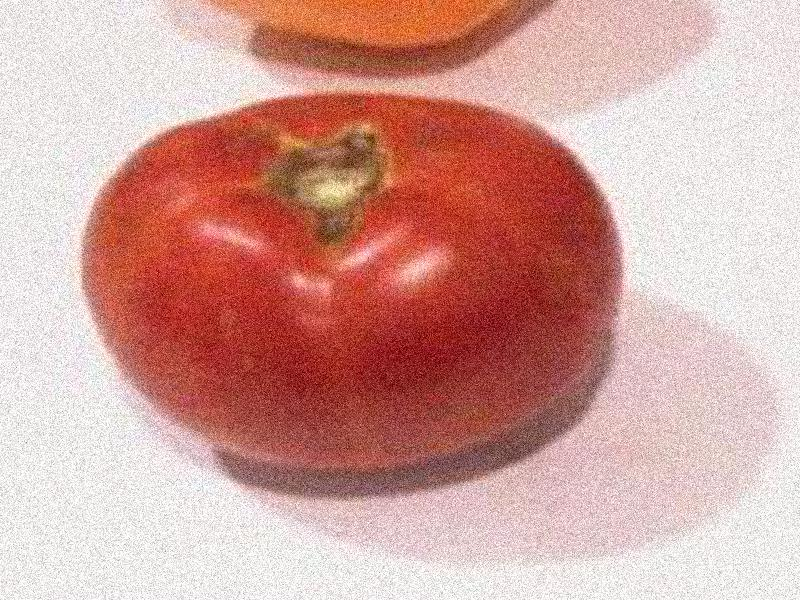Tomato: (81, 95, 616, 465)
